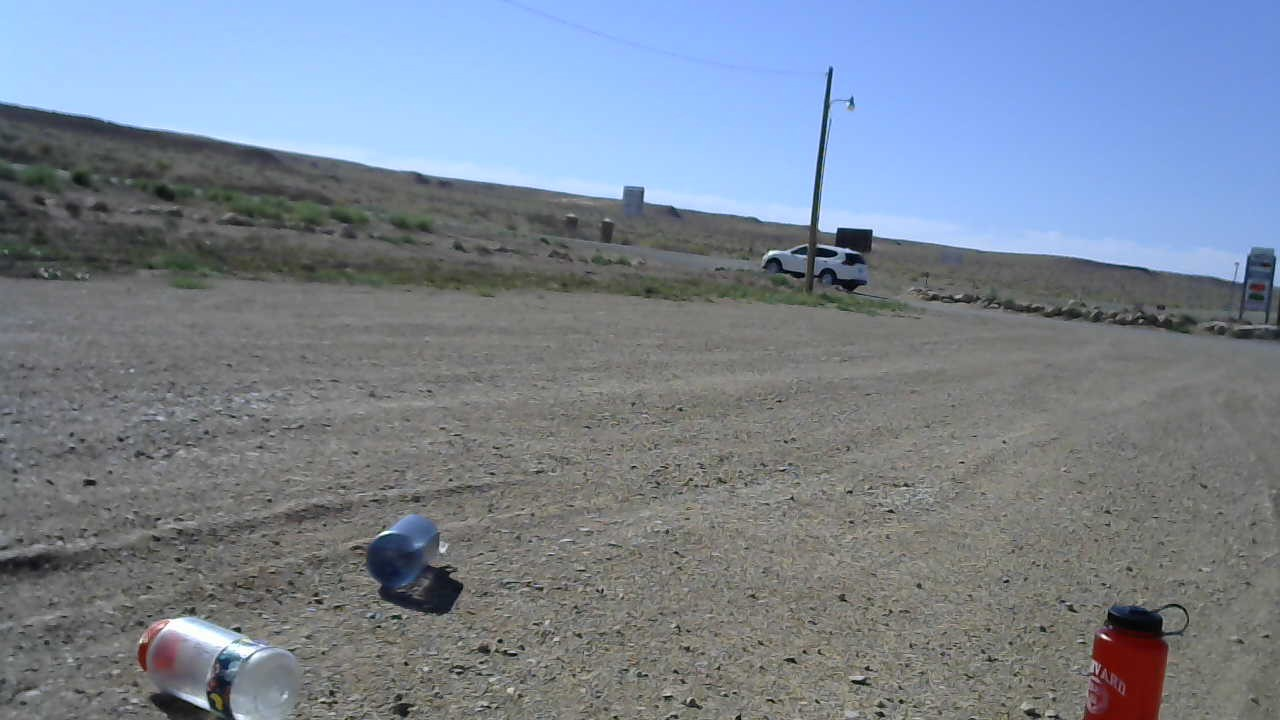bottle: (131, 608, 310, 720), (1075, 592, 1193, 720), (359, 513, 456, 588)
